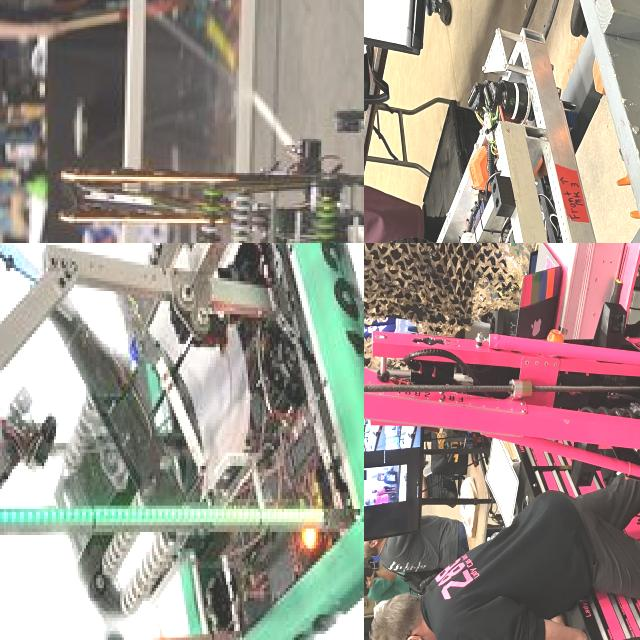FRC-Robots: (0, 243, 364, 640), (364, 277, 640, 640), (0, 26, 364, 243), (364, 26, 628, 243)
